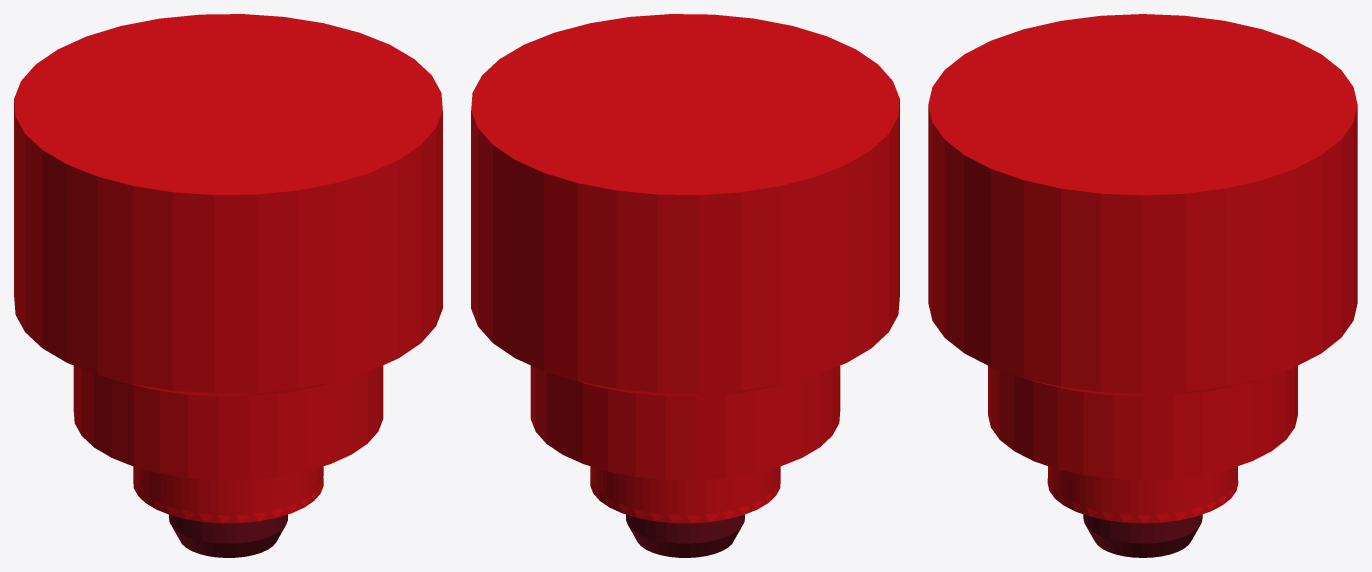
File: red_bottom.fbx
The picture shows the model from 3 angles, left to right: view 1: azimuth 30°, elevation 25°; view 2: azimuth 150°, elevation 25°; view 3: azimuth 270°, elevation 25°; orthographic projection.
Visible parts, largest first — view 1: leg.top, leg.mid, leg.bottom, point; view 2: leg.top, leg.mid, leg.bottom, point; view 3: leg.top, leg.mid, leg.bottom, point.
Part boxes in pixels (left/top/right/bottom): leg.top: left=14, top=14, right=442, bottom=396; leg.mid: left=73, top=365, right=383, bottom=479; leg.bottom: left=133, top=466, right=323, bottom=523; point: left=169, top=514, right=287, bottom=557; leg.top: left=471, top=14, right=899, bottom=396; leg.mid: left=530, top=365, right=840, bottom=479; leg.bottom: left=590, top=466, right=780, bottom=523; point: left=626, top=514, right=744, bottom=557; leg.top: left=928, top=14, right=1357, bottom=396; leg.mid: left=988, top=366, right=1297, bottom=480; leg.bottom: left=1047, top=466, right=1238, bottom=523; point: left=1083, top=514, right=1202, bottom=557.
Size of the model in its own units: 360 by 400 by 360.
